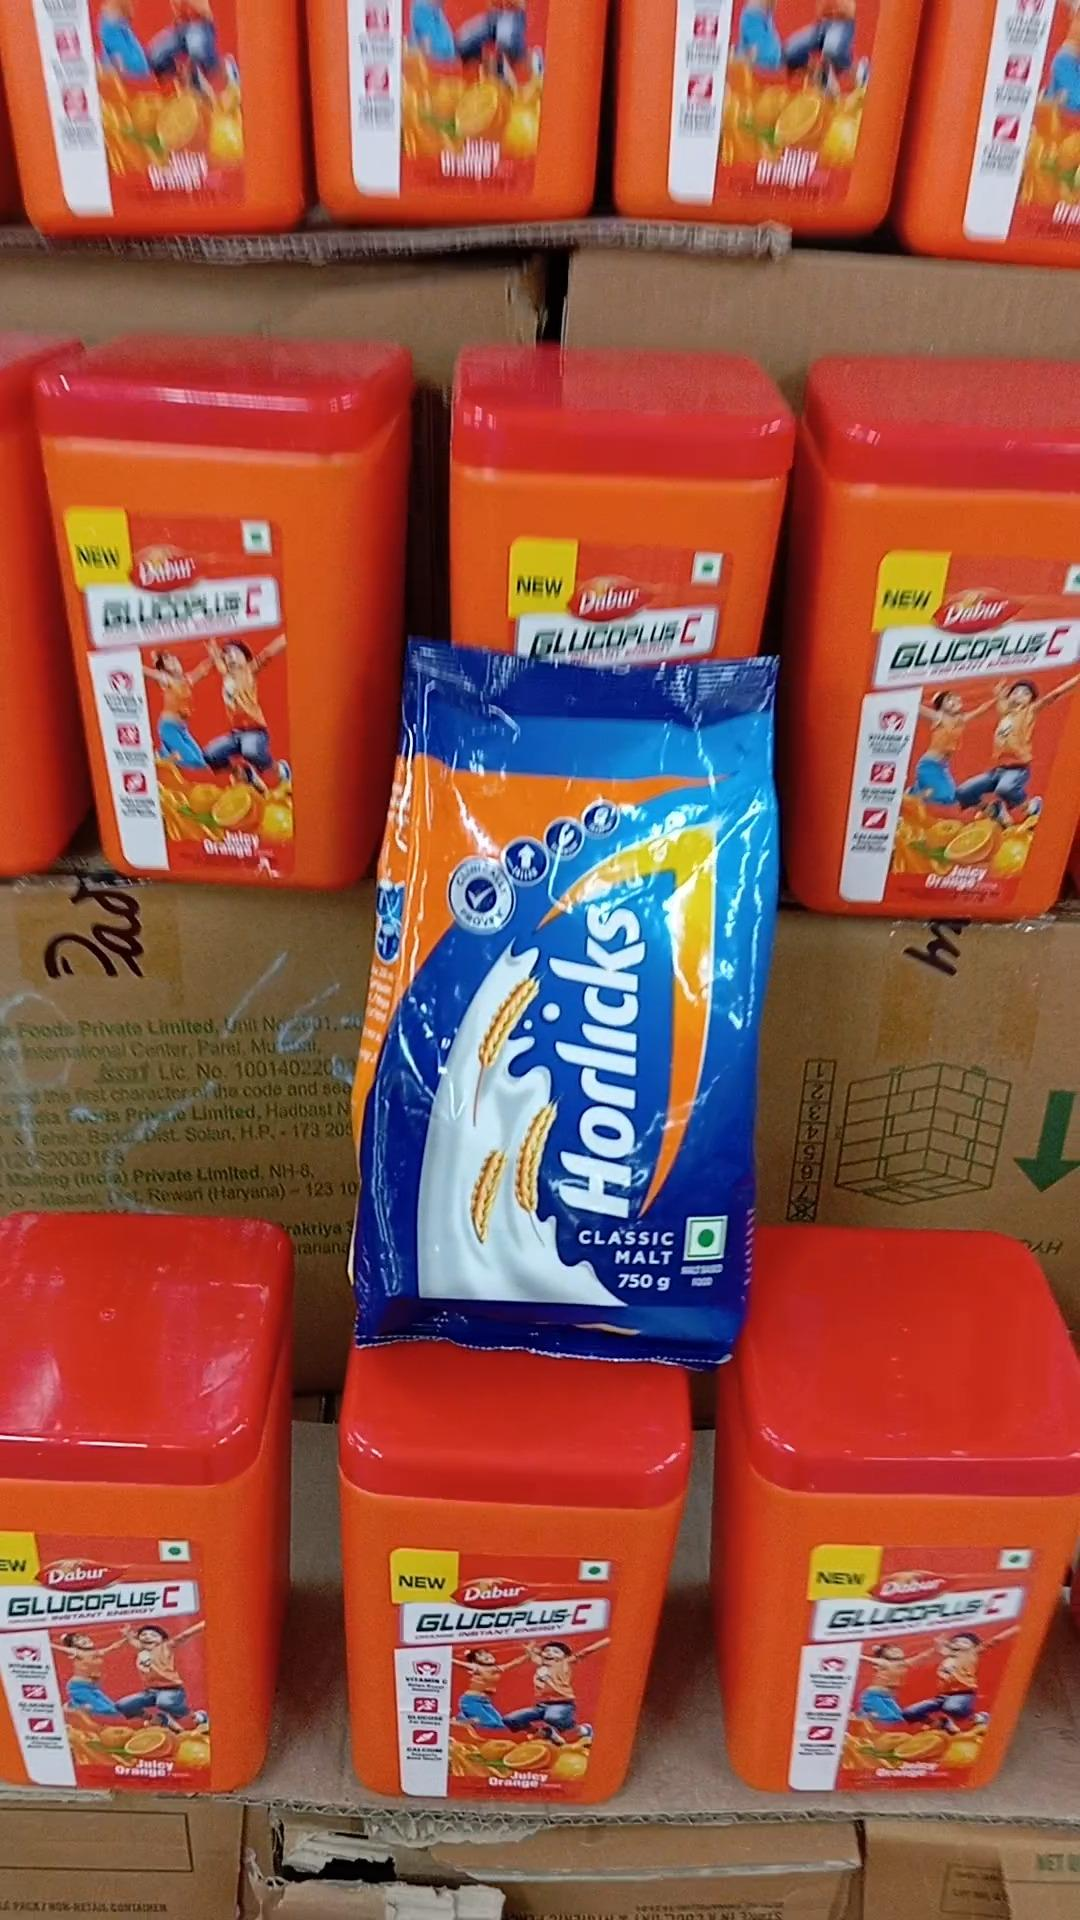HORLICK_CLASSIC_MALT_750_G_POUCH: (388, 647, 752, 1358)
